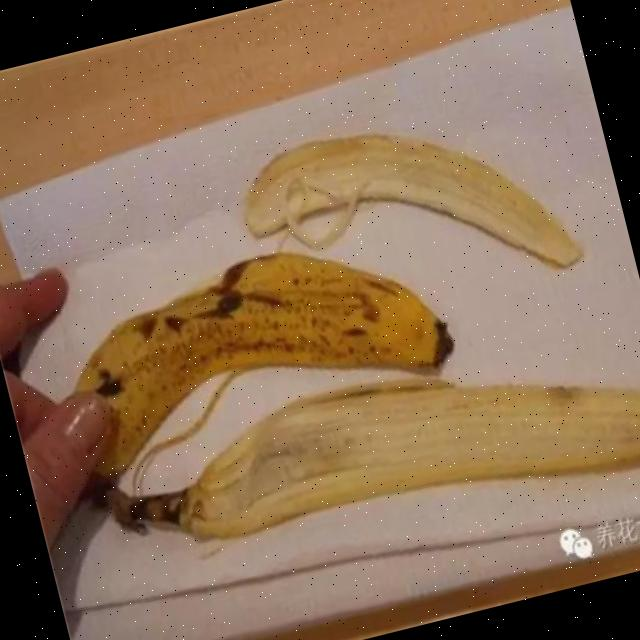banana-peel: (91, 308, 640, 593), (39, 213, 468, 497), (228, 81, 585, 341)
